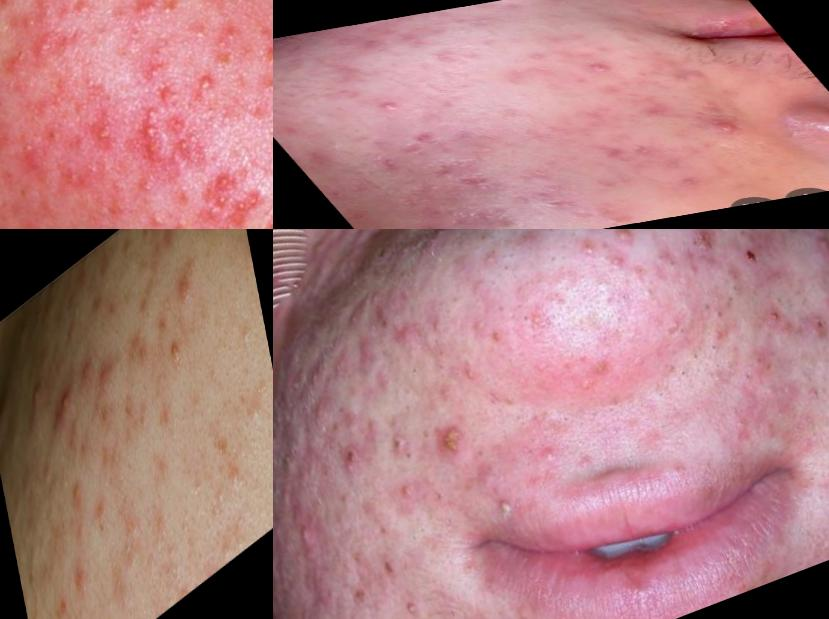acne_scars: (583, 137, 665, 168), (445, 168, 524, 198), (402, 130, 459, 152), (633, 102, 690, 124)
blackhead: (640, 240, 692, 286), (576, 266, 625, 308), (716, 278, 752, 313), (689, 292, 725, 326), (796, 378, 829, 414), (120, 523, 144, 568), (704, 302, 737, 331), (671, 361, 696, 385), (543, 249, 568, 273), (686, 341, 709, 367), (706, 337, 728, 358), (818, 395, 829, 432)
cystic: (401, 355, 435, 386)
keloid: (280, 331, 372, 414), (299, 253, 362, 318), (274, 411, 319, 485), (293, 230, 379, 261)
papular: (559, 342, 629, 406), (505, 293, 565, 349), (733, 345, 793, 400), (69, 534, 106, 619), (82, 99, 137, 154), (149, 324, 194, 389), (207, 12, 261, 63), (169, 242, 204, 317), (29, 19, 75, 69), (384, 311, 434, 357), (693, 114, 766, 144), (133, 197, 199, 230), (411, 230, 473, 262), (382, 422, 428, 463), (689, 230, 732, 268), (57, 1, 103, 36), (420, 307, 459, 347), (791, 230, 829, 270), (97, 341, 122, 398), (460, 308, 499, 344), (475, 239, 512, 276), (412, 161, 469, 185), (14, 199, 56, 230), (451, 355, 488, 390), (129, 1, 170, 32), (758, 300, 793, 336), (76, 352, 100, 401), (800, 308, 829, 346), (1, 1, 30, 23), (413, 219, 458, 230), (666, 230, 706, 242)
purulent: (473, 468, 530, 536), (426, 415, 480, 469), (387, 471, 431, 510), (288, 510, 328, 551), (227, 187, 271, 222), (359, 94, 417, 120), (533, 433, 573, 469), (572, 232, 612, 268), (22, 368, 50, 416), (190, 65, 226, 101), (605, 230, 645, 254), (56, 379, 74, 426), (580, 59, 622, 77), (261, 36, 274, 71)
sebo-crystan-conglo: (169, 106, 220, 181), (130, 101, 175, 164)
whitehead: (636, 291, 703, 357), (226, 443, 254, 500), (397, 590, 428, 619), (237, 317, 258, 356), (37, 456, 55, 493)
